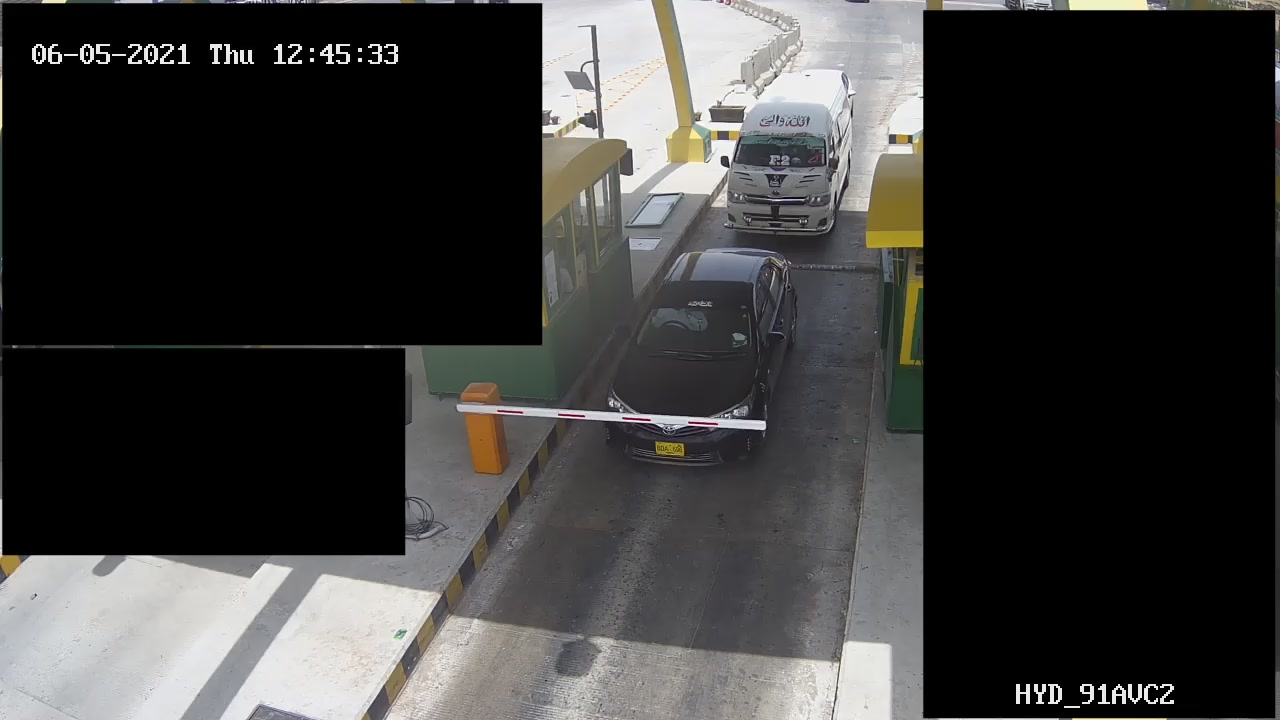F1: (600, 230, 798, 471)
F2: (717, 59, 867, 242)
